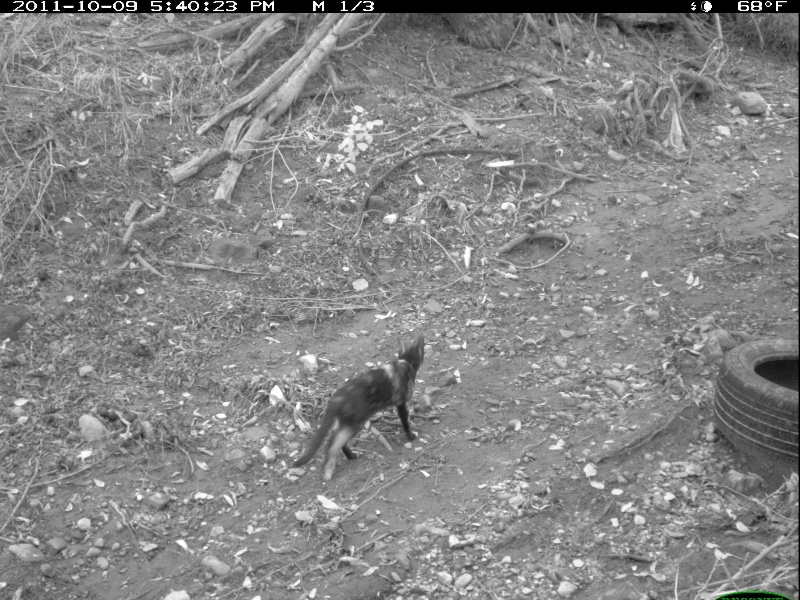cat: (290, 334, 429, 482)
